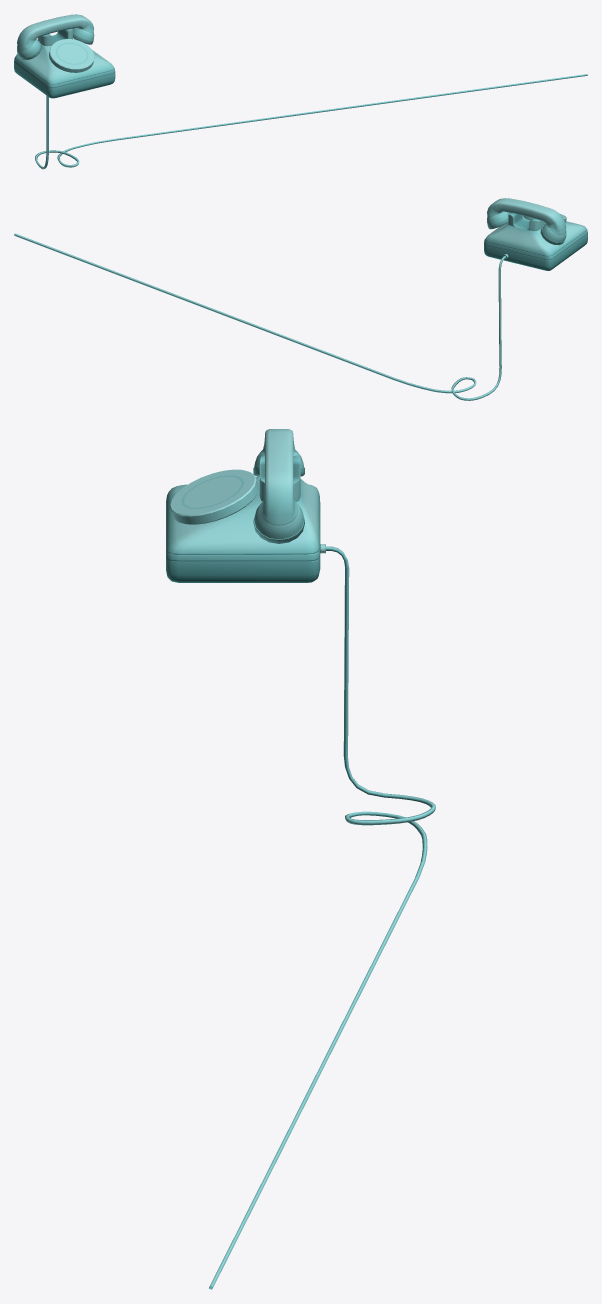
Rendered from difu_daoju01.FBX.
3 renders of one model, top to bottom at view 1: azimuth 30°, elevation 25°; view 2: azimuth 150°, elevation 25°; view 3: azimuth 270°, elevation 25°, orthographic. The views are drawn at different scales.
Parts seen in each view (by area): view 1: difu_daoju_1; view 2: difu_daoju_1; view 3: difu_daoju_1.
Boxes of the visible parts, <box> form: difu_daoju_1: <box>14,14,587,169</box>; difu_daoju_1: <box>14,198,587,400</box>; difu_daoju_1: <box>166,429,435,1289</box>.
Bounding box in the file's own units: 2233 × 651 × 473.
